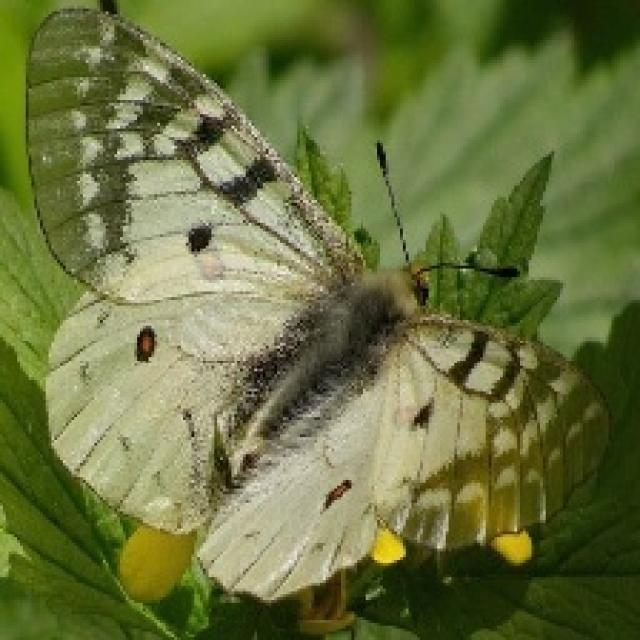butterfly: (20, 0, 614, 606)
